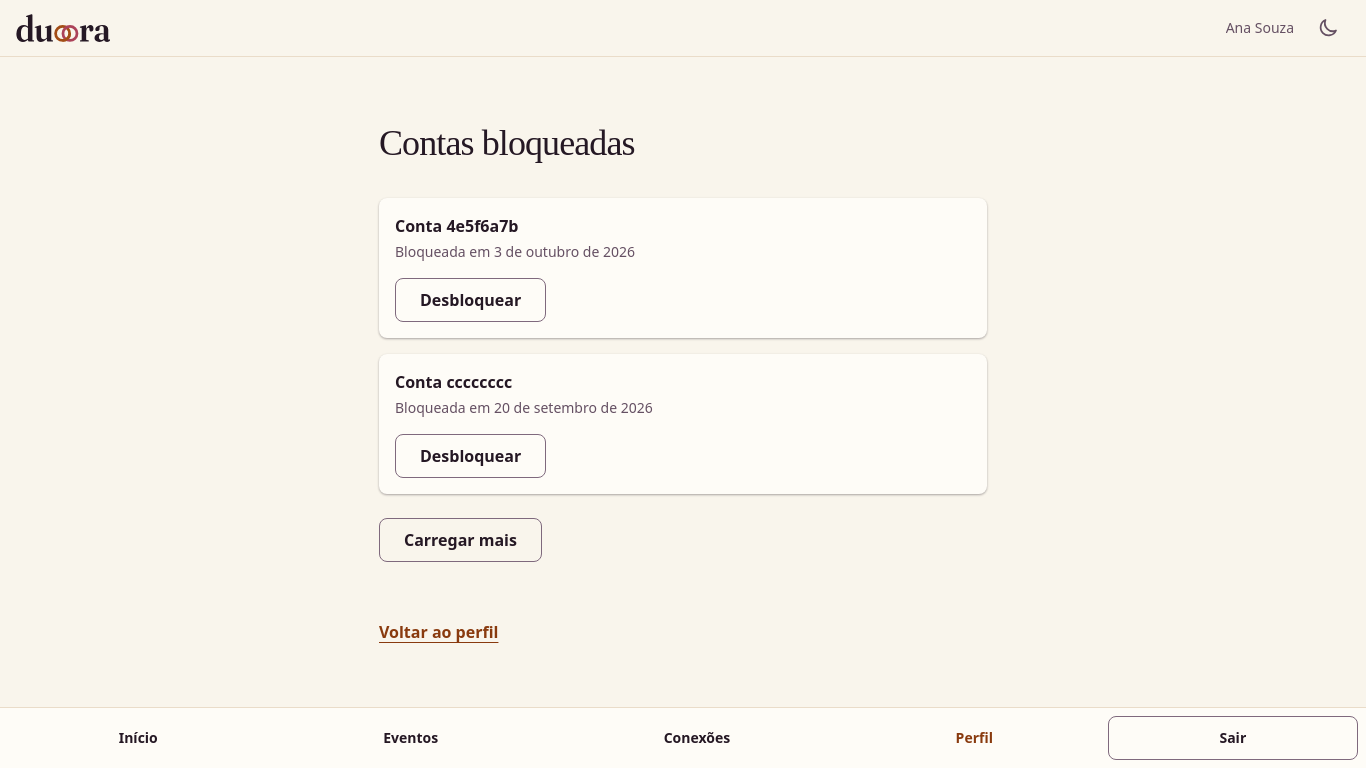
blocked accounts page › loads the next page on "Carregar mais" and stops offering it on the last page
Click the button "Carregar mais": (460, 540) [379, 518, 542, 562]
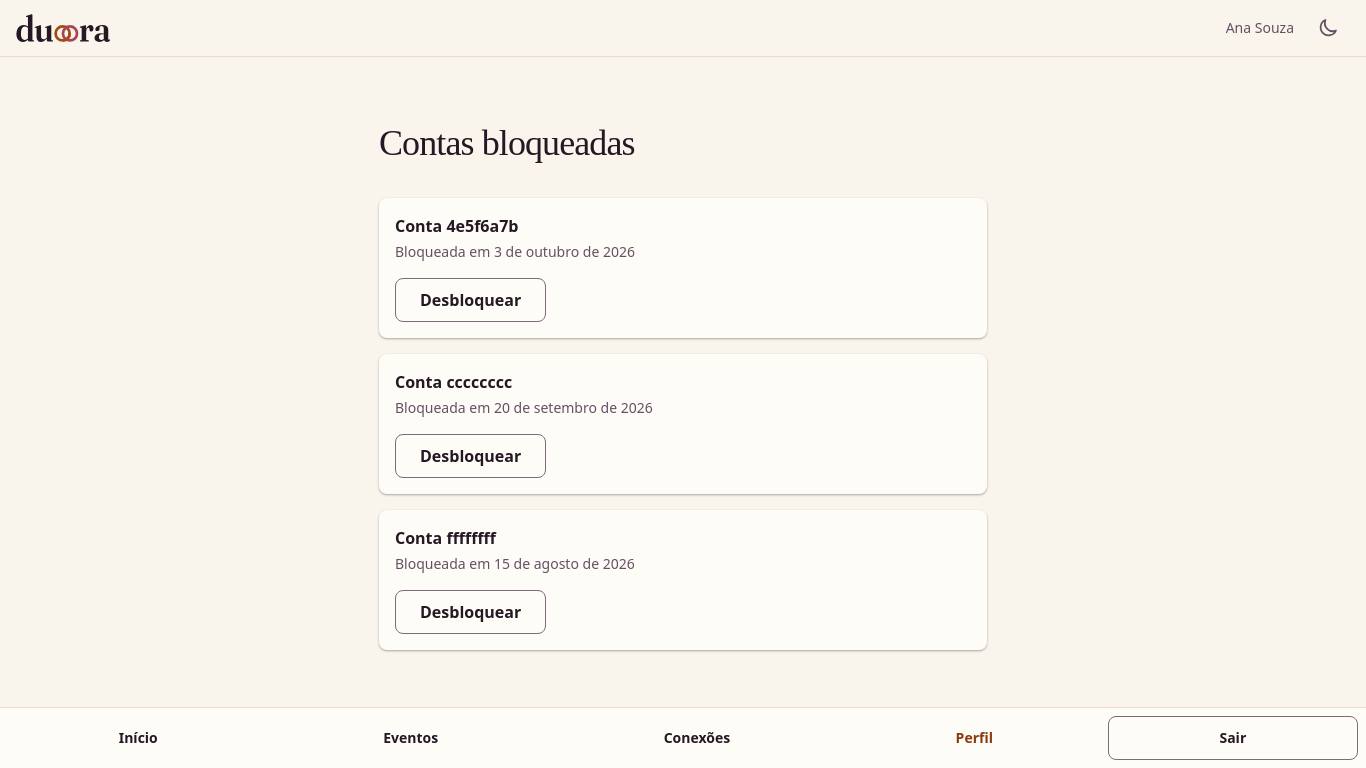
Expected: the list item "Conta ffffffff Bloqueada em 15 de agosto de 2026 Desbloquear" is shown, [379, 510, 987, 650]
Expected: the number of list items is 3, [379, 198, 987, 338]; [379, 354, 987, 494]; [379, 510, 987, 650]
Expected: the button "Carregar mais" is gone
